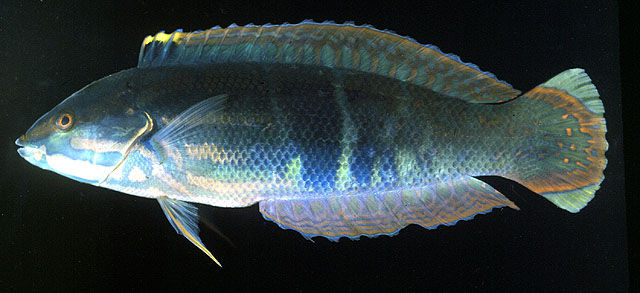fish: (15, 20, 608, 268)
